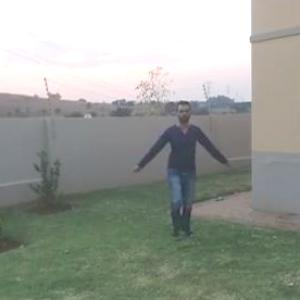land: (123, 98, 228, 232)
